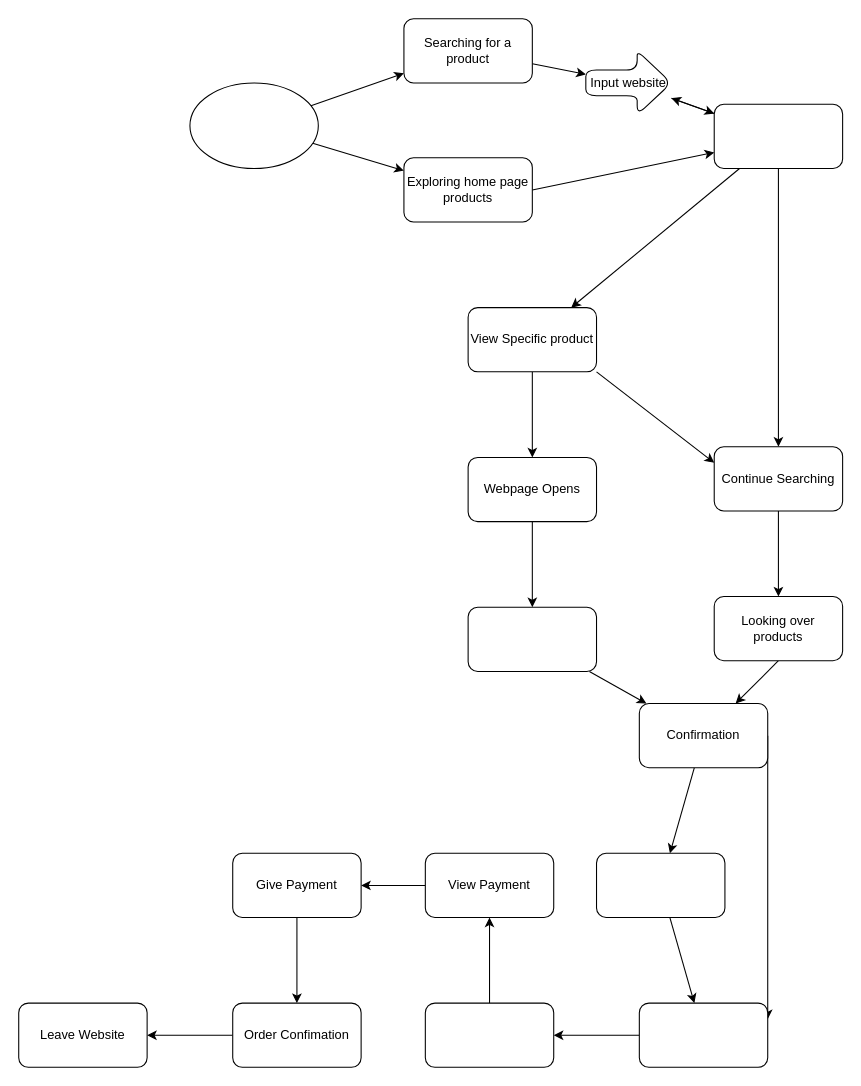
The diagram is 861 pixels wide and 1086 high, and some of its shapes have lost their labels. Here are the shapes that lost their labels. From the top down, the box of each, then its label:
(189, 82, 318, 169): start
(713, 103, 843, 169): Look over products
(467, 606, 597, 671): Add to cart?
(595, 852, 725, 918): Leaves Website
(424, 1002, 554, 1067): View Cart
(638, 1002, 768, 1067): Checkout
